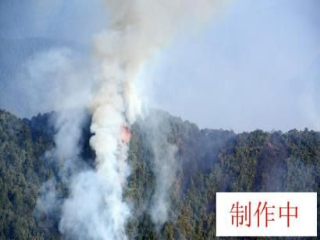smoke: (85, 3, 149, 168), (27, 41, 88, 184), (142, 107, 183, 225)
